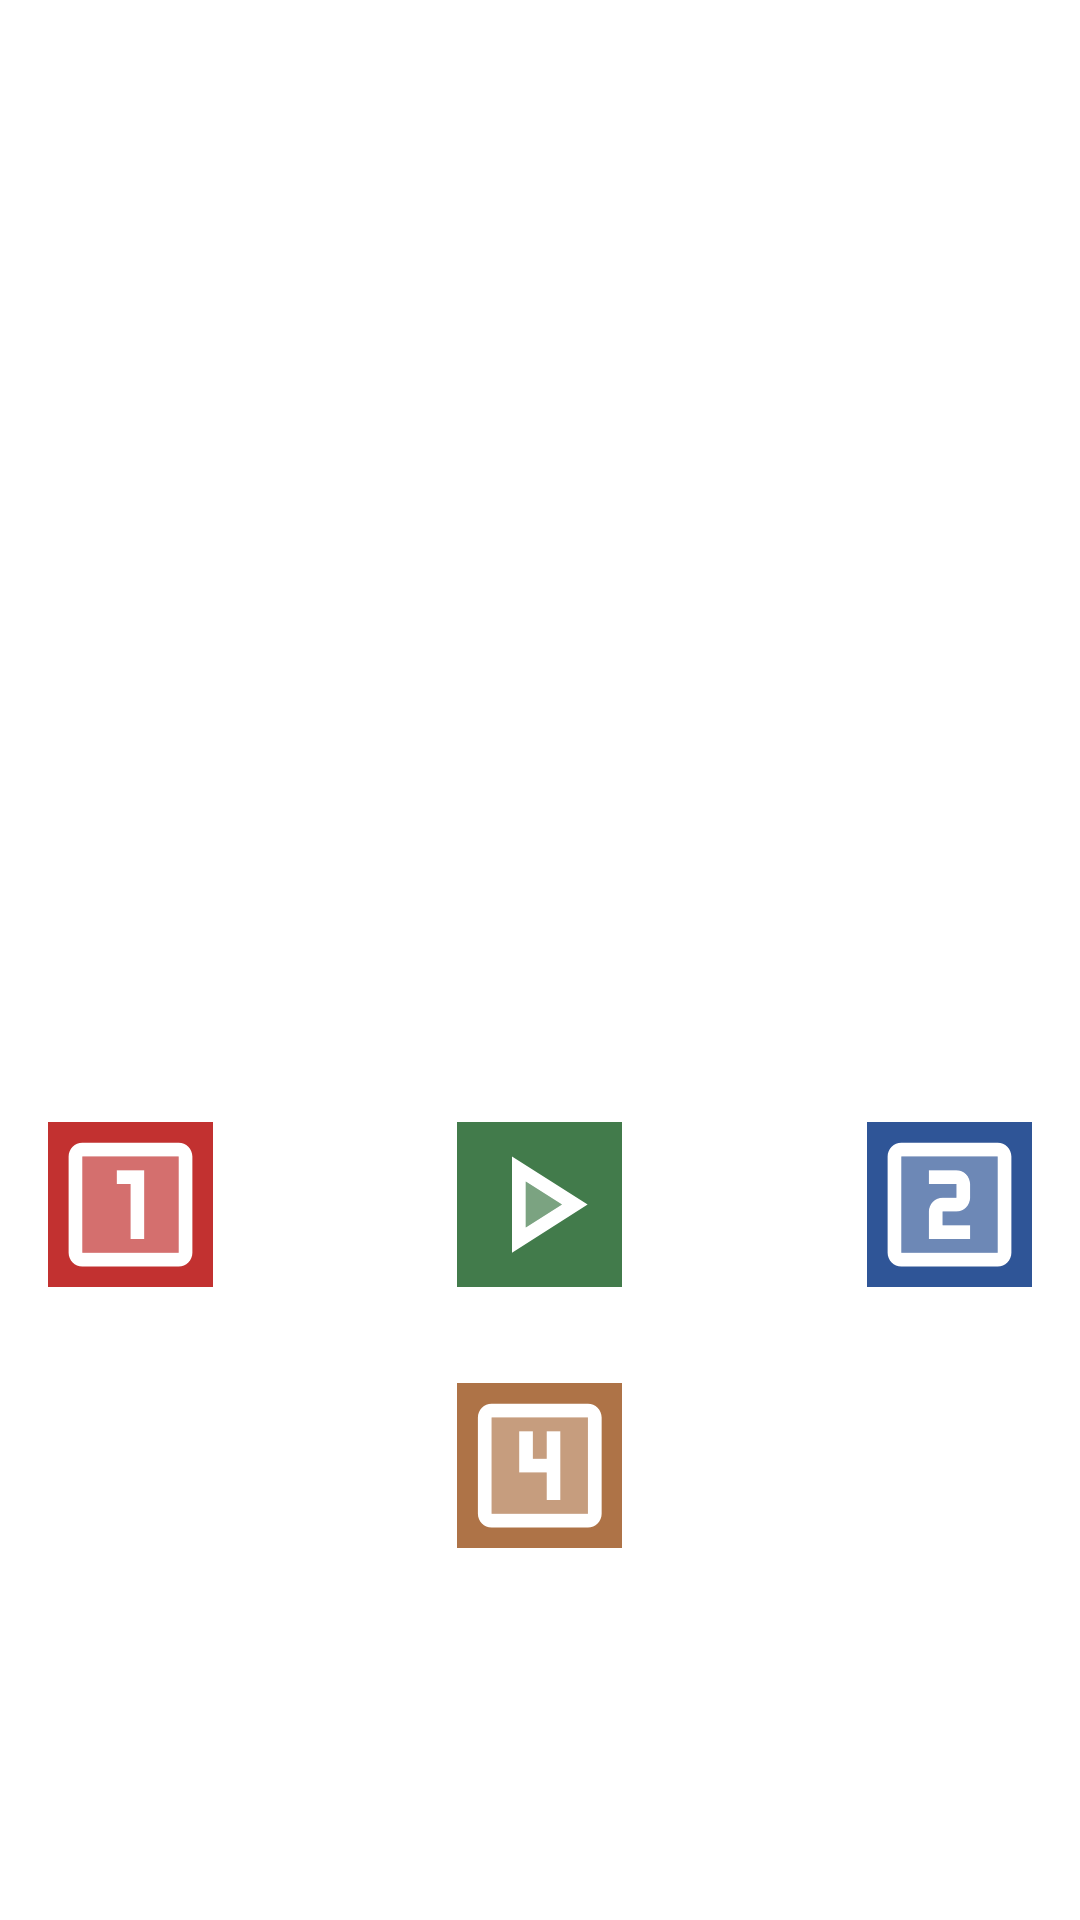

Screen size 1080*1920. Icon name, then its box in pixels as bbox=(x1, y1, x2, y2):
looks one: bbox=(48, 1122, 213, 1287)
looks two: bbox=(867, 1122, 1032, 1287)
play arrow: bbox=(457, 1122, 622, 1287)
